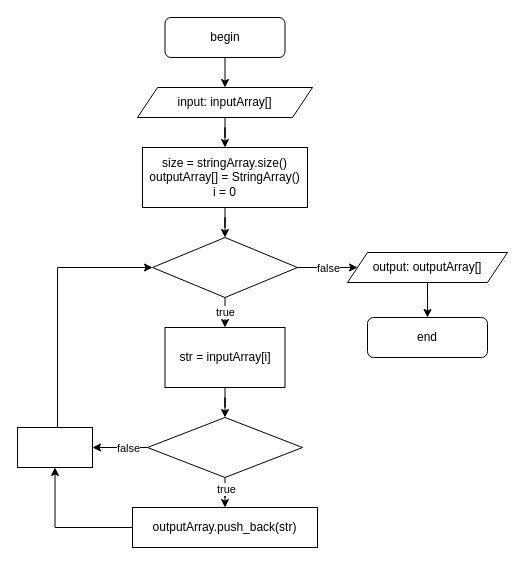
The diagram is 525 pixels wide and 565 high, and some of its shapes have lost their labels. Each missing label, with the centre of its shape:
"i < size" goes at [225,267].
"i++" goes at [54,447].
"str.length() <= 3" goes at [224,447].
